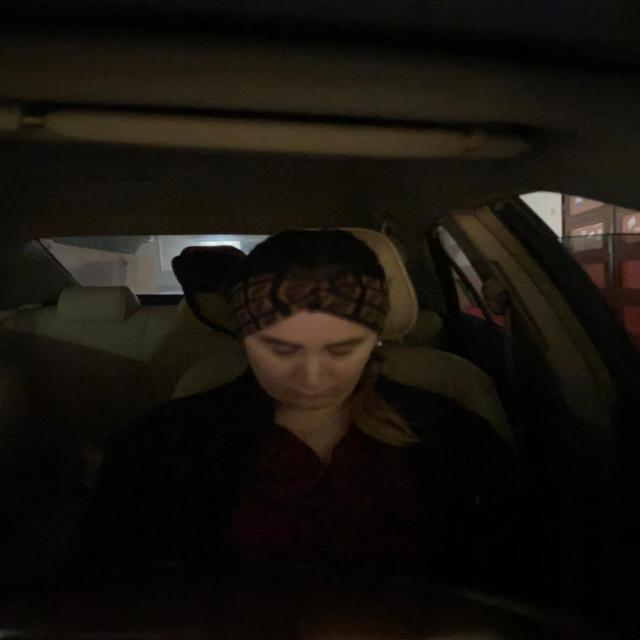drowsy: (231, 249, 392, 410)
